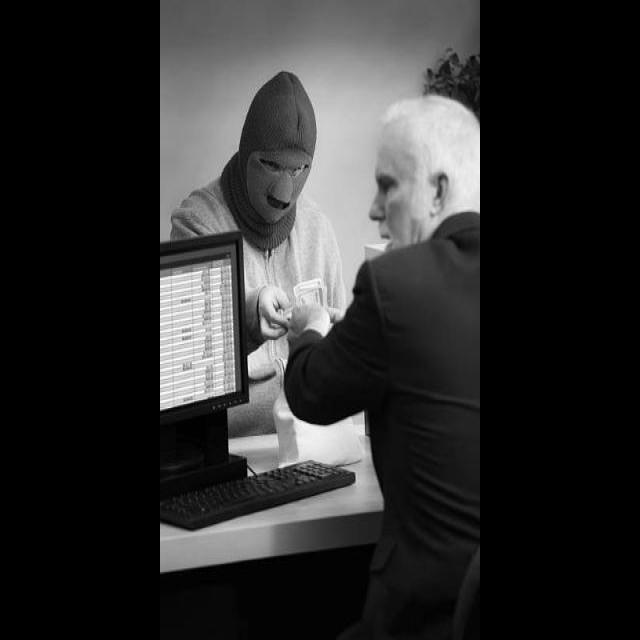6_pasamontana: (219, 69, 317, 251)
